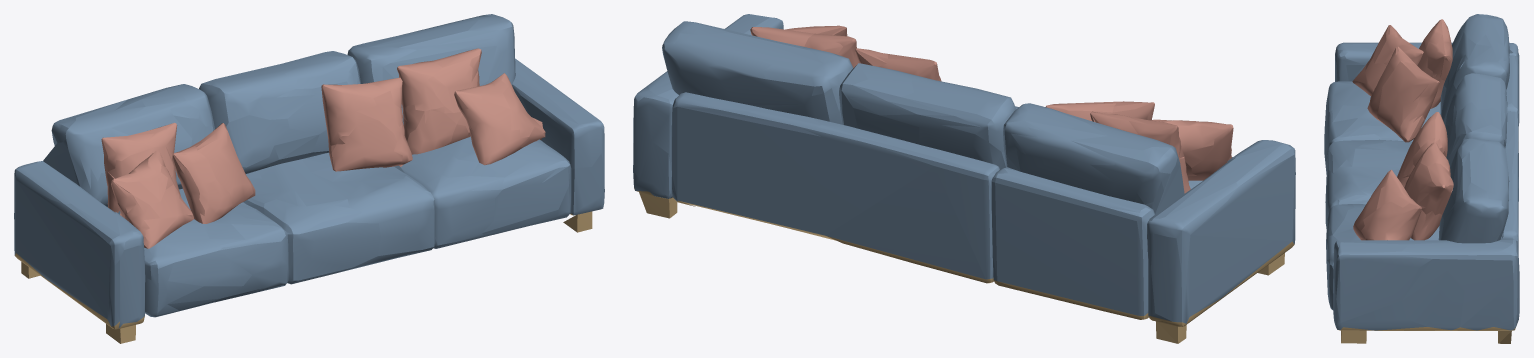
The model's file is sofa.glb.
3 renders of one model, left to right at view 1: azimuth 30°, elevation 25°; view 2: azimuth 150°, elevation 25°; view 3: azimuth 270°, elevation 25°, orthographic. The views are drawn at different scales.
Bounding box in the file's own units: 1.9 × 0.5891 × 0.7372.
